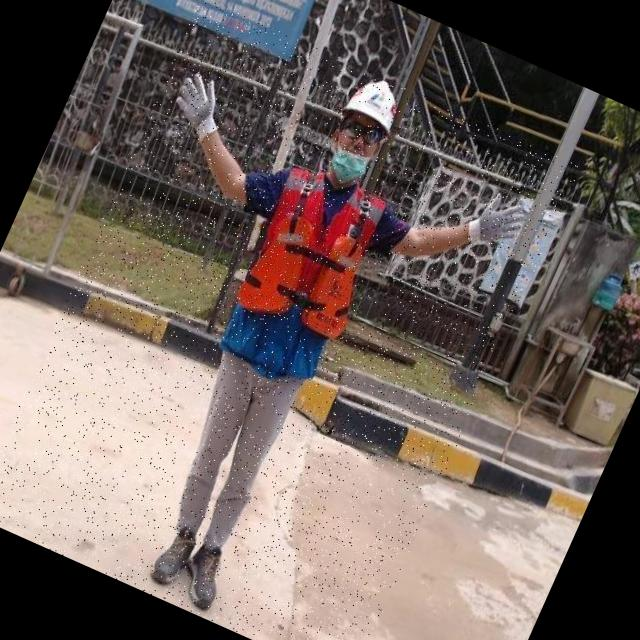hard_hat: (340, 72, 410, 140)
safety_vest: (210, 158, 402, 393)
vehicle: (0, 0, 581, 640)
work_boots: (168, 540, 236, 617), (148, 518, 202, 592)
